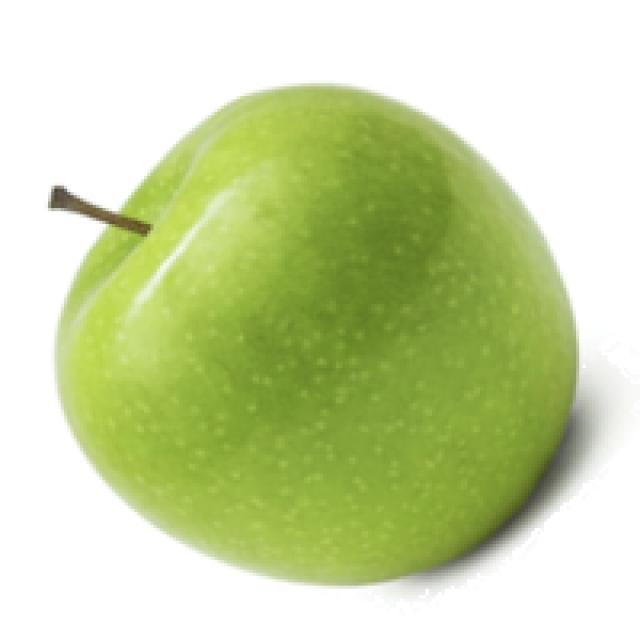apple: (42, 77, 637, 608)
